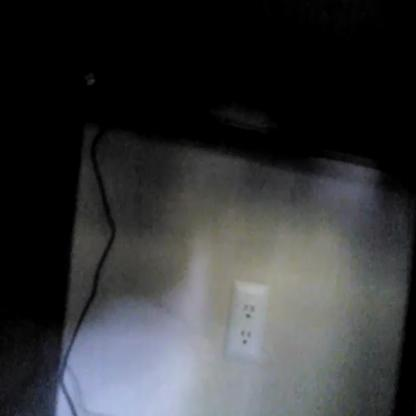OUTLET: (227, 282, 265, 356)
